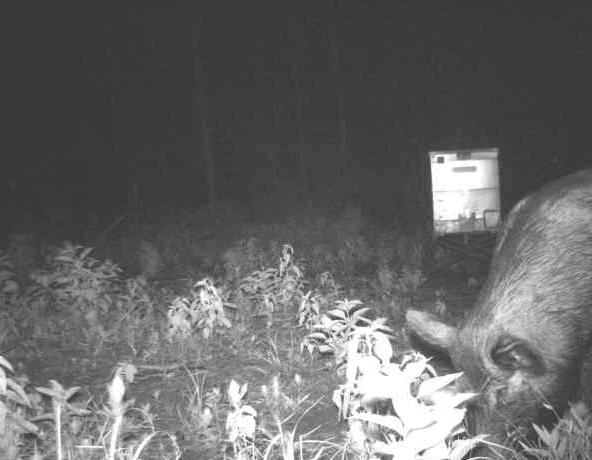Hog: (401, 160, 592, 460)
